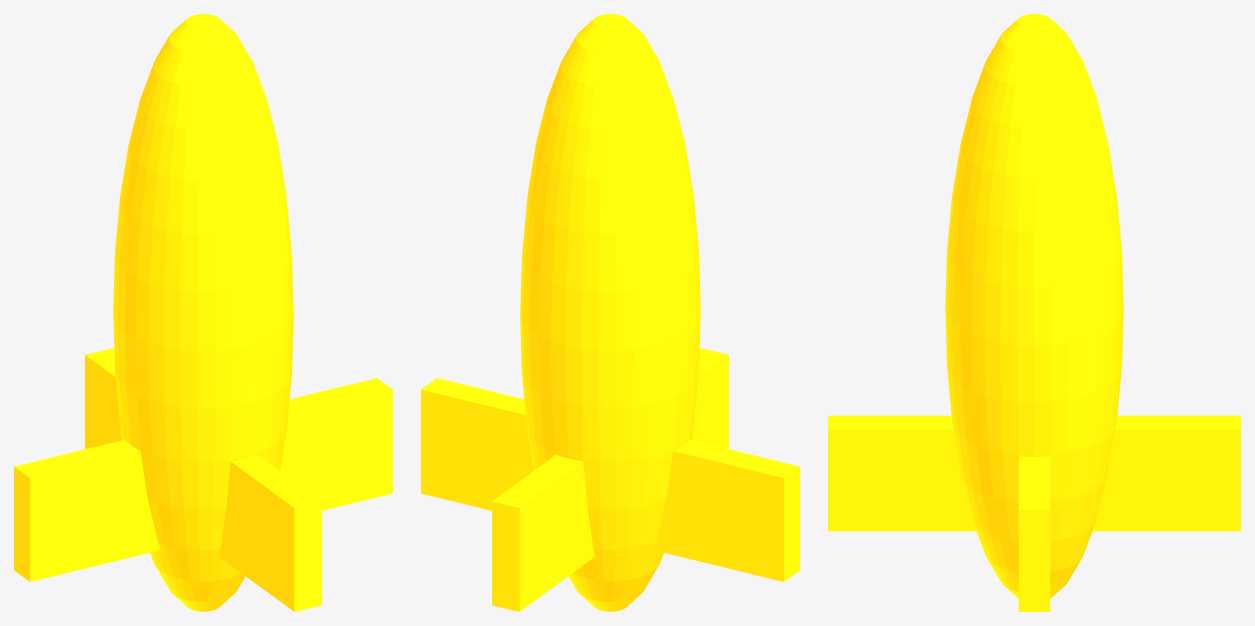
Rendered from rocket.glb.
The picture shows the model from 3 angles, left to right: view 1: azimuth 30°, elevation 25°; view 2: azimuth 150°, elevation 25°; view 3: azimuth 270°, elevation 25°; orthographic projection.
Parts seen in each view (by area): view 1: 球体, 立方体.001, 立方体, 立方体.003, 立方体.002; view 2: 球体, 立方体.001, 立方体, 立方体.002, 立方体.003; view 3: 球体, 立方体.002, 立方体.003, 立方体.
Boxes of the visible parts, x1,y1,x2,y2 form: 球体: [113, 14, 293, 611]; 立方体.001: [14, 439, 160, 581]; 立方体: [280, 378, 392, 510]; 立方体.003: [219, 455, 321, 611]; 立方体.002: [85, 348, 121, 449]; 球体: [520, 14, 700, 611]; 立方体.001: [653, 439, 799, 581]; 立方体: [421, 378, 533, 510]; 立方体.002: [492, 455, 594, 611]; 立方体.003: [692, 348, 728, 449]; 球体: [945, 14, 1123, 598]; 立方体.002: [1092, 415, 1240, 531]; 立方体.003: [828, 415, 976, 531]; 立方体: [1018, 456, 1050, 611].
Size of the model in its own units: 4.63 by 7.25 by 4.63.
